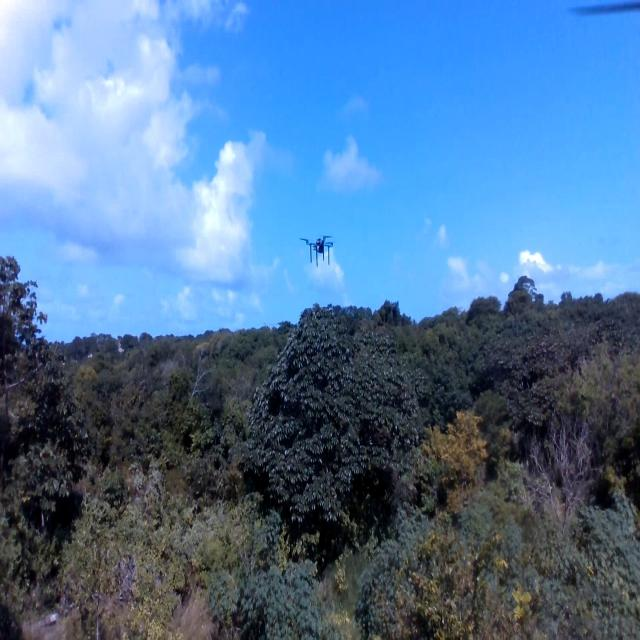-uav-: (297, 228, 345, 277)
